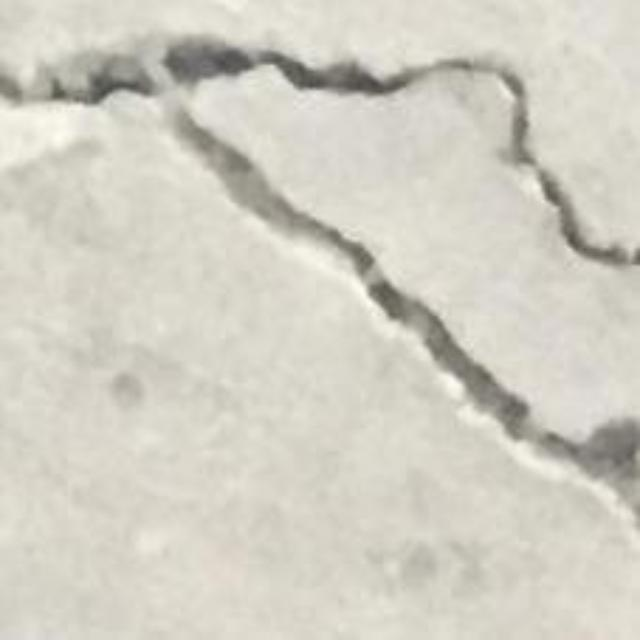crack: (0, 37, 639, 515)
